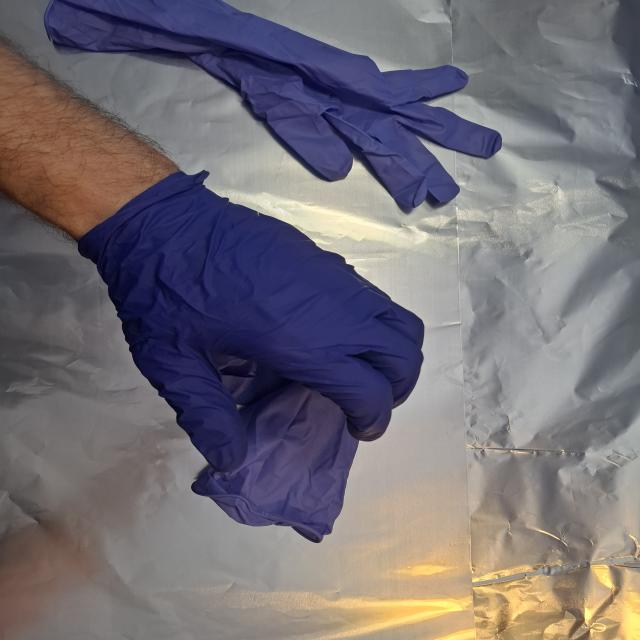glove_on: (86, 175, 428, 475)
